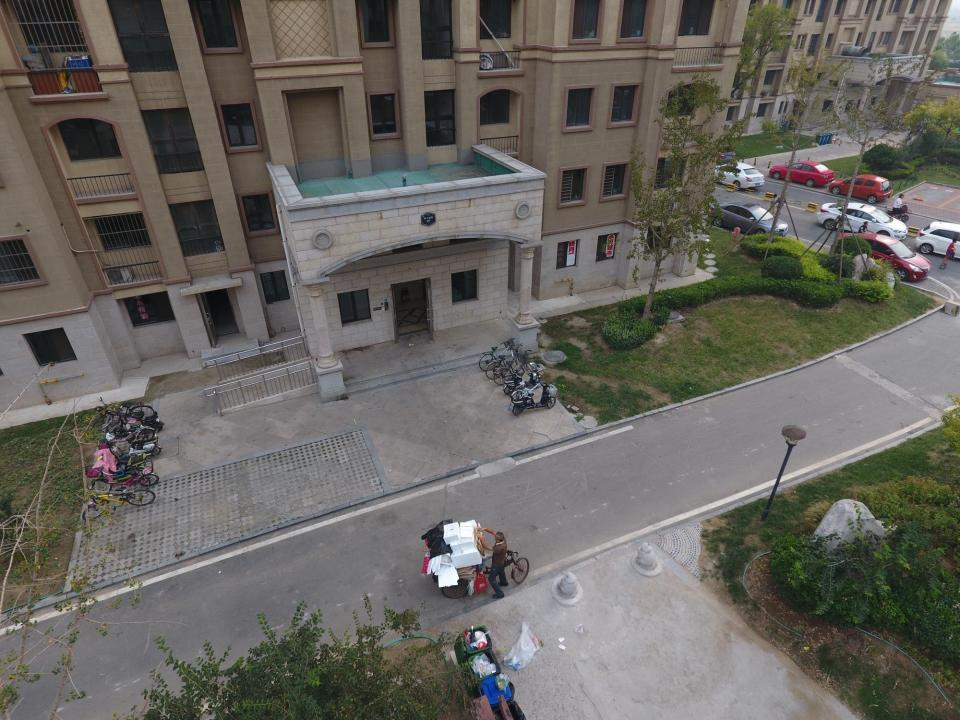car: (837, 233, 931, 281), (816, 202, 908, 240), (711, 202, 788, 240), (828, 174, 892, 203), (770, 160, 836, 188), (915, 221, 960, 261), (706, 163, 765, 190), (693, 144, 736, 166)
